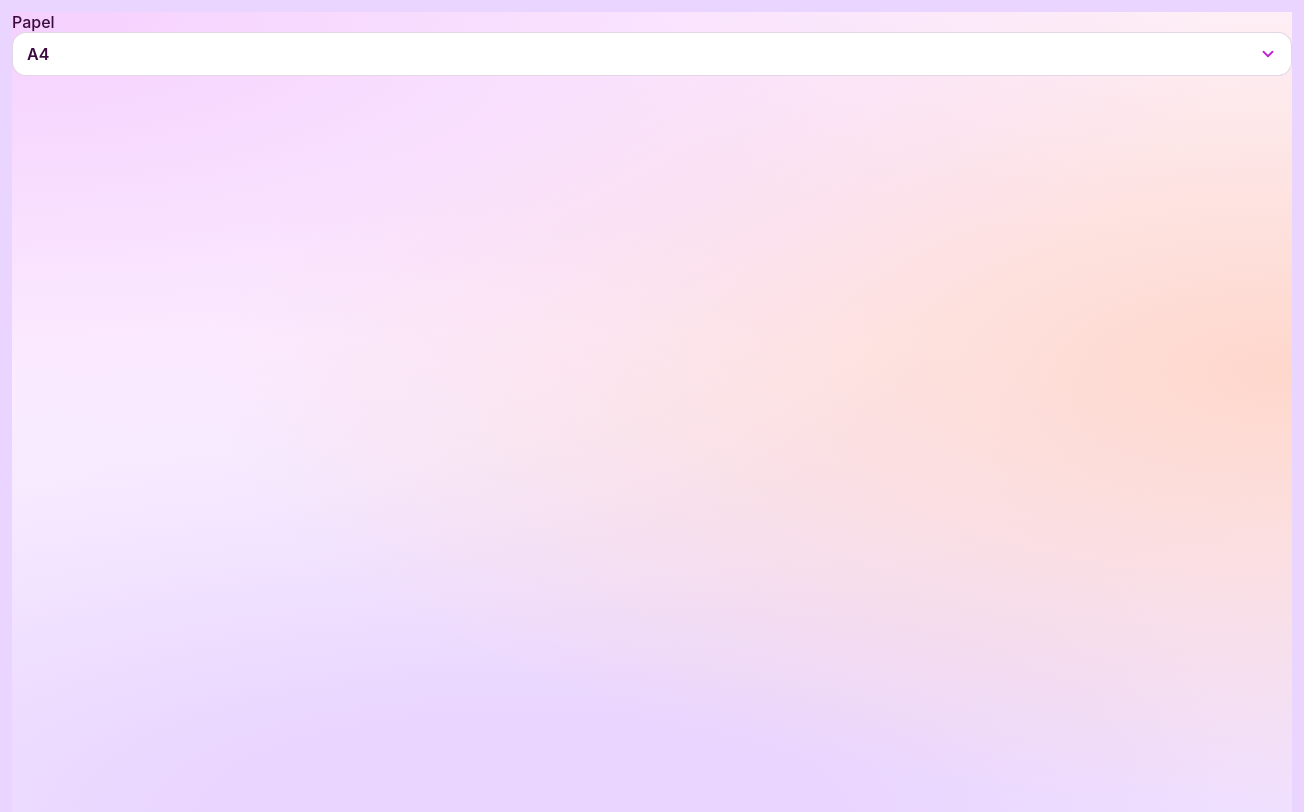
Test case: Select › closes on Escape without choosing, and stops the key there
Step 1. Click the dropdown named "Papel" → {"x": 38, "y": 54}, box top-left (12, 32), bottom-right (1292, 76)
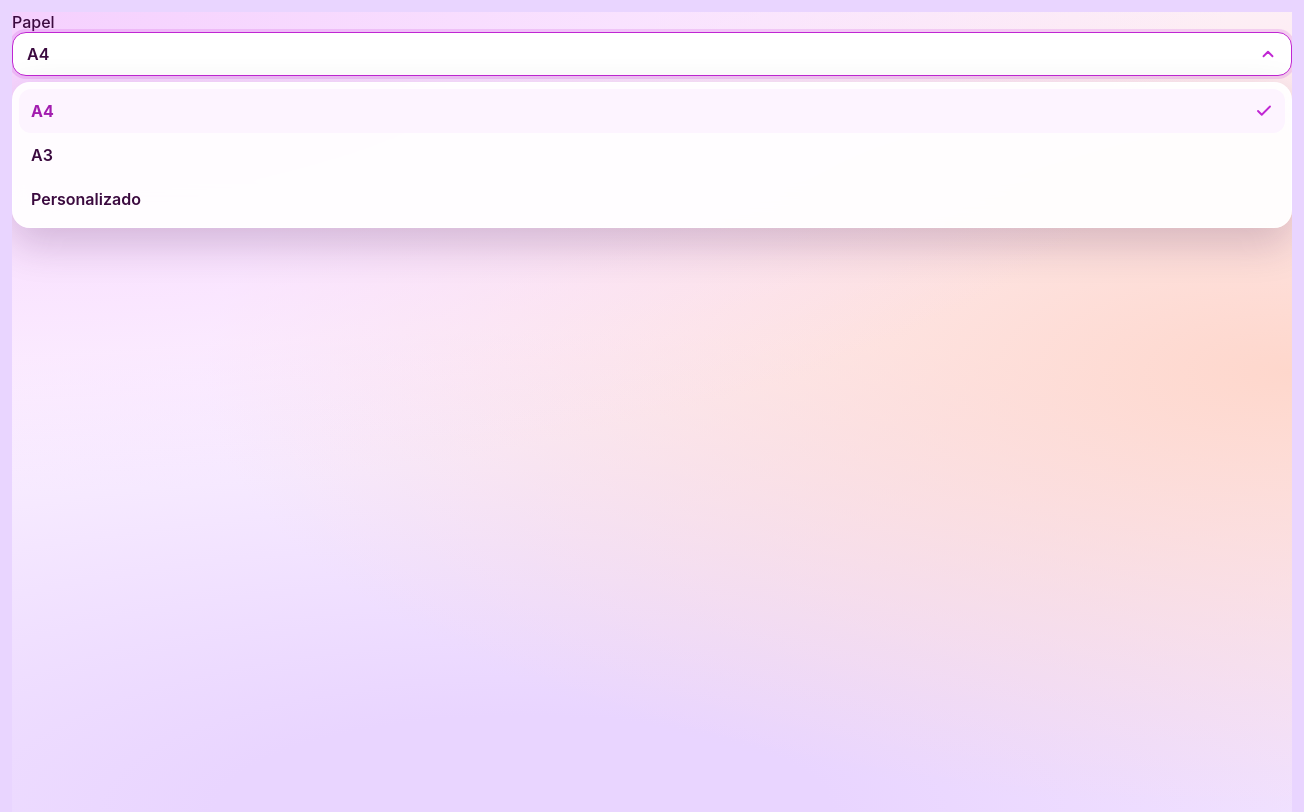
Step 2. Press ArrowDown in the dropdown named "Papel", box top-left (12, 32), bottom-right (1292, 76)
Step 3. Press Escape in the dropdown named "Papel", box top-left (12, 32), bottom-right (1292, 76)
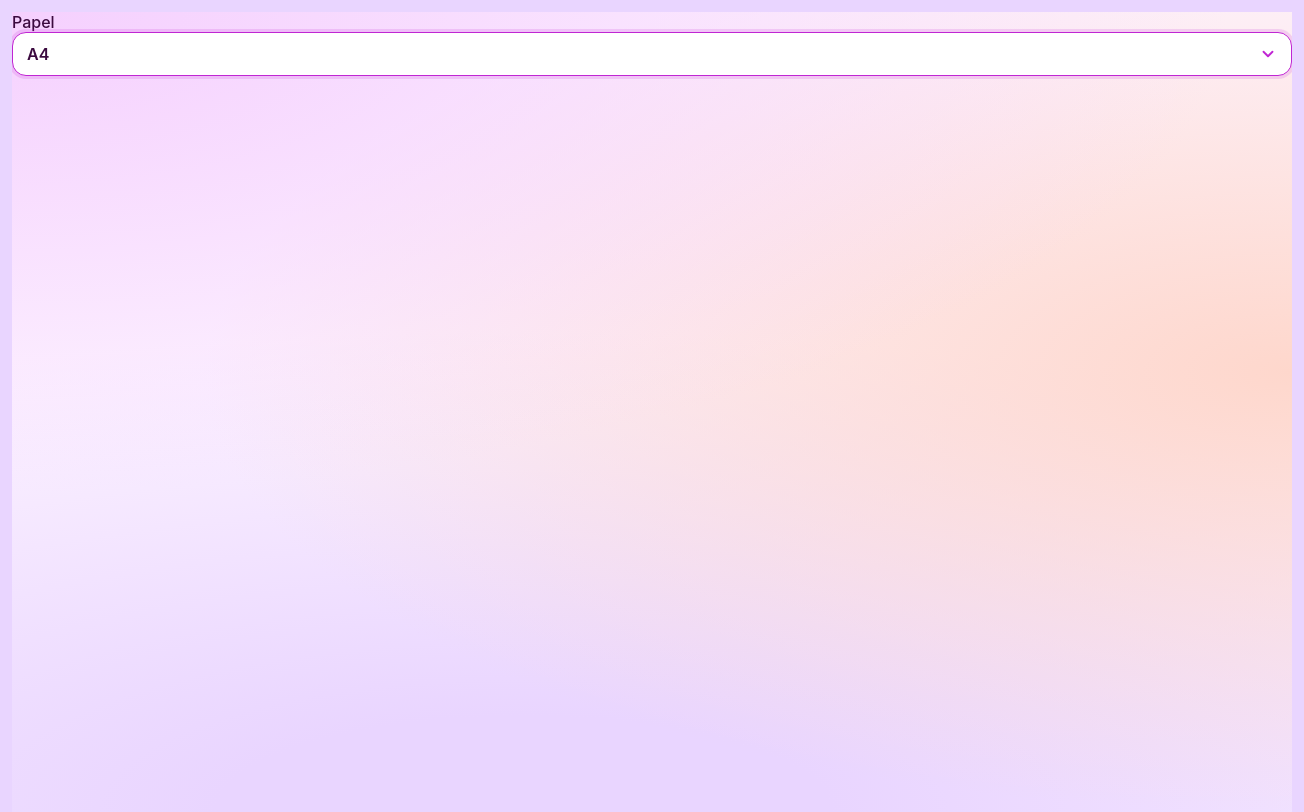
Check: the list is gone
